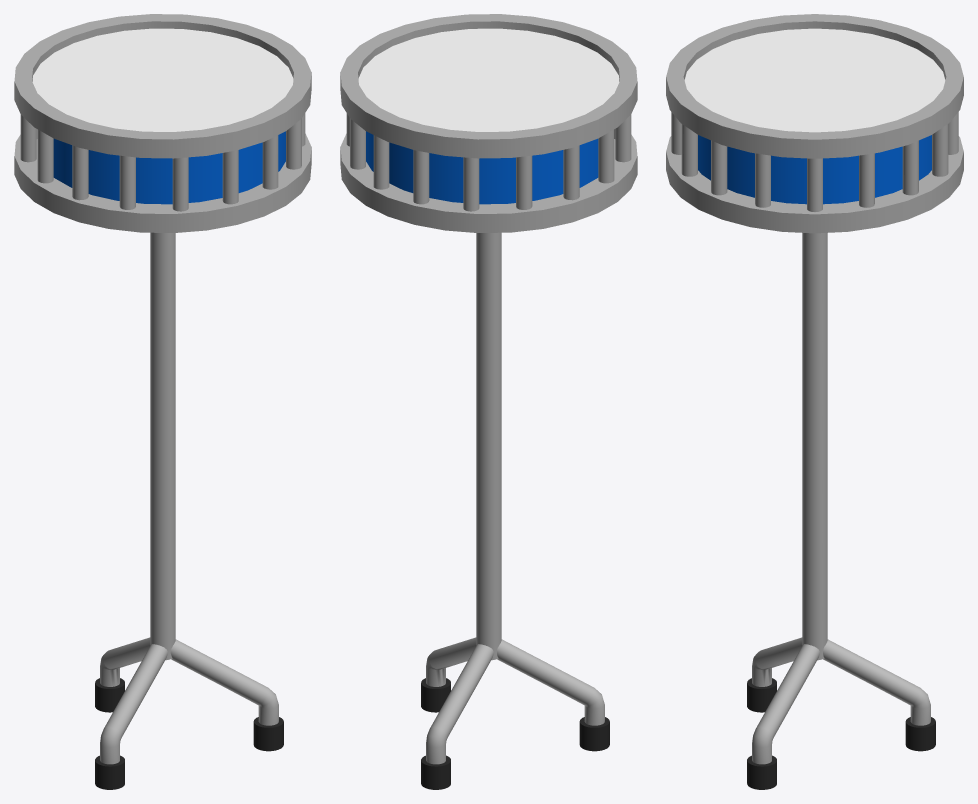
File: Tom1.fbx
3 renders of one model, left to right at view 1: azimuth 30°, elevation 25°; view 2: azimuth 150°, elevation 25°; view 3: azimuth 270°, elevation 25°, orthographic.
Visible parts, largest first — view 1: Tom1; view 2: Tom1; view 3: Tom1.
Boxes of the visible parts, box(x1,y1,x2,y2) form: Tom1: box(14, 14, 311, 789); Tom1: box(340, 14, 637, 789); Tom1: box(666, 14, 963, 789).
Size of the model in its own units: 121 by 300 by 121.
